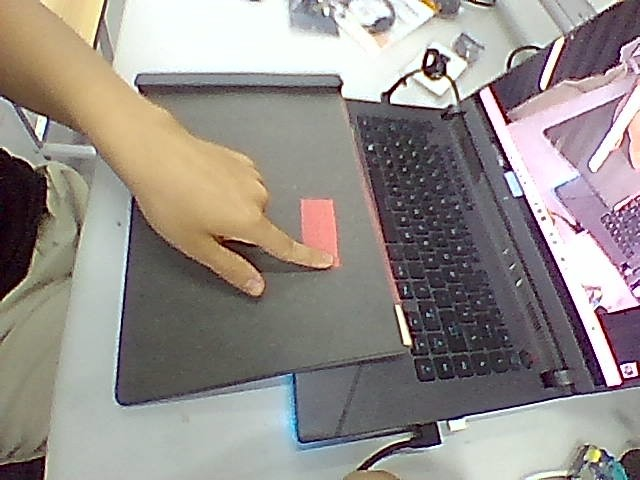card: (300, 198, 338, 265)
